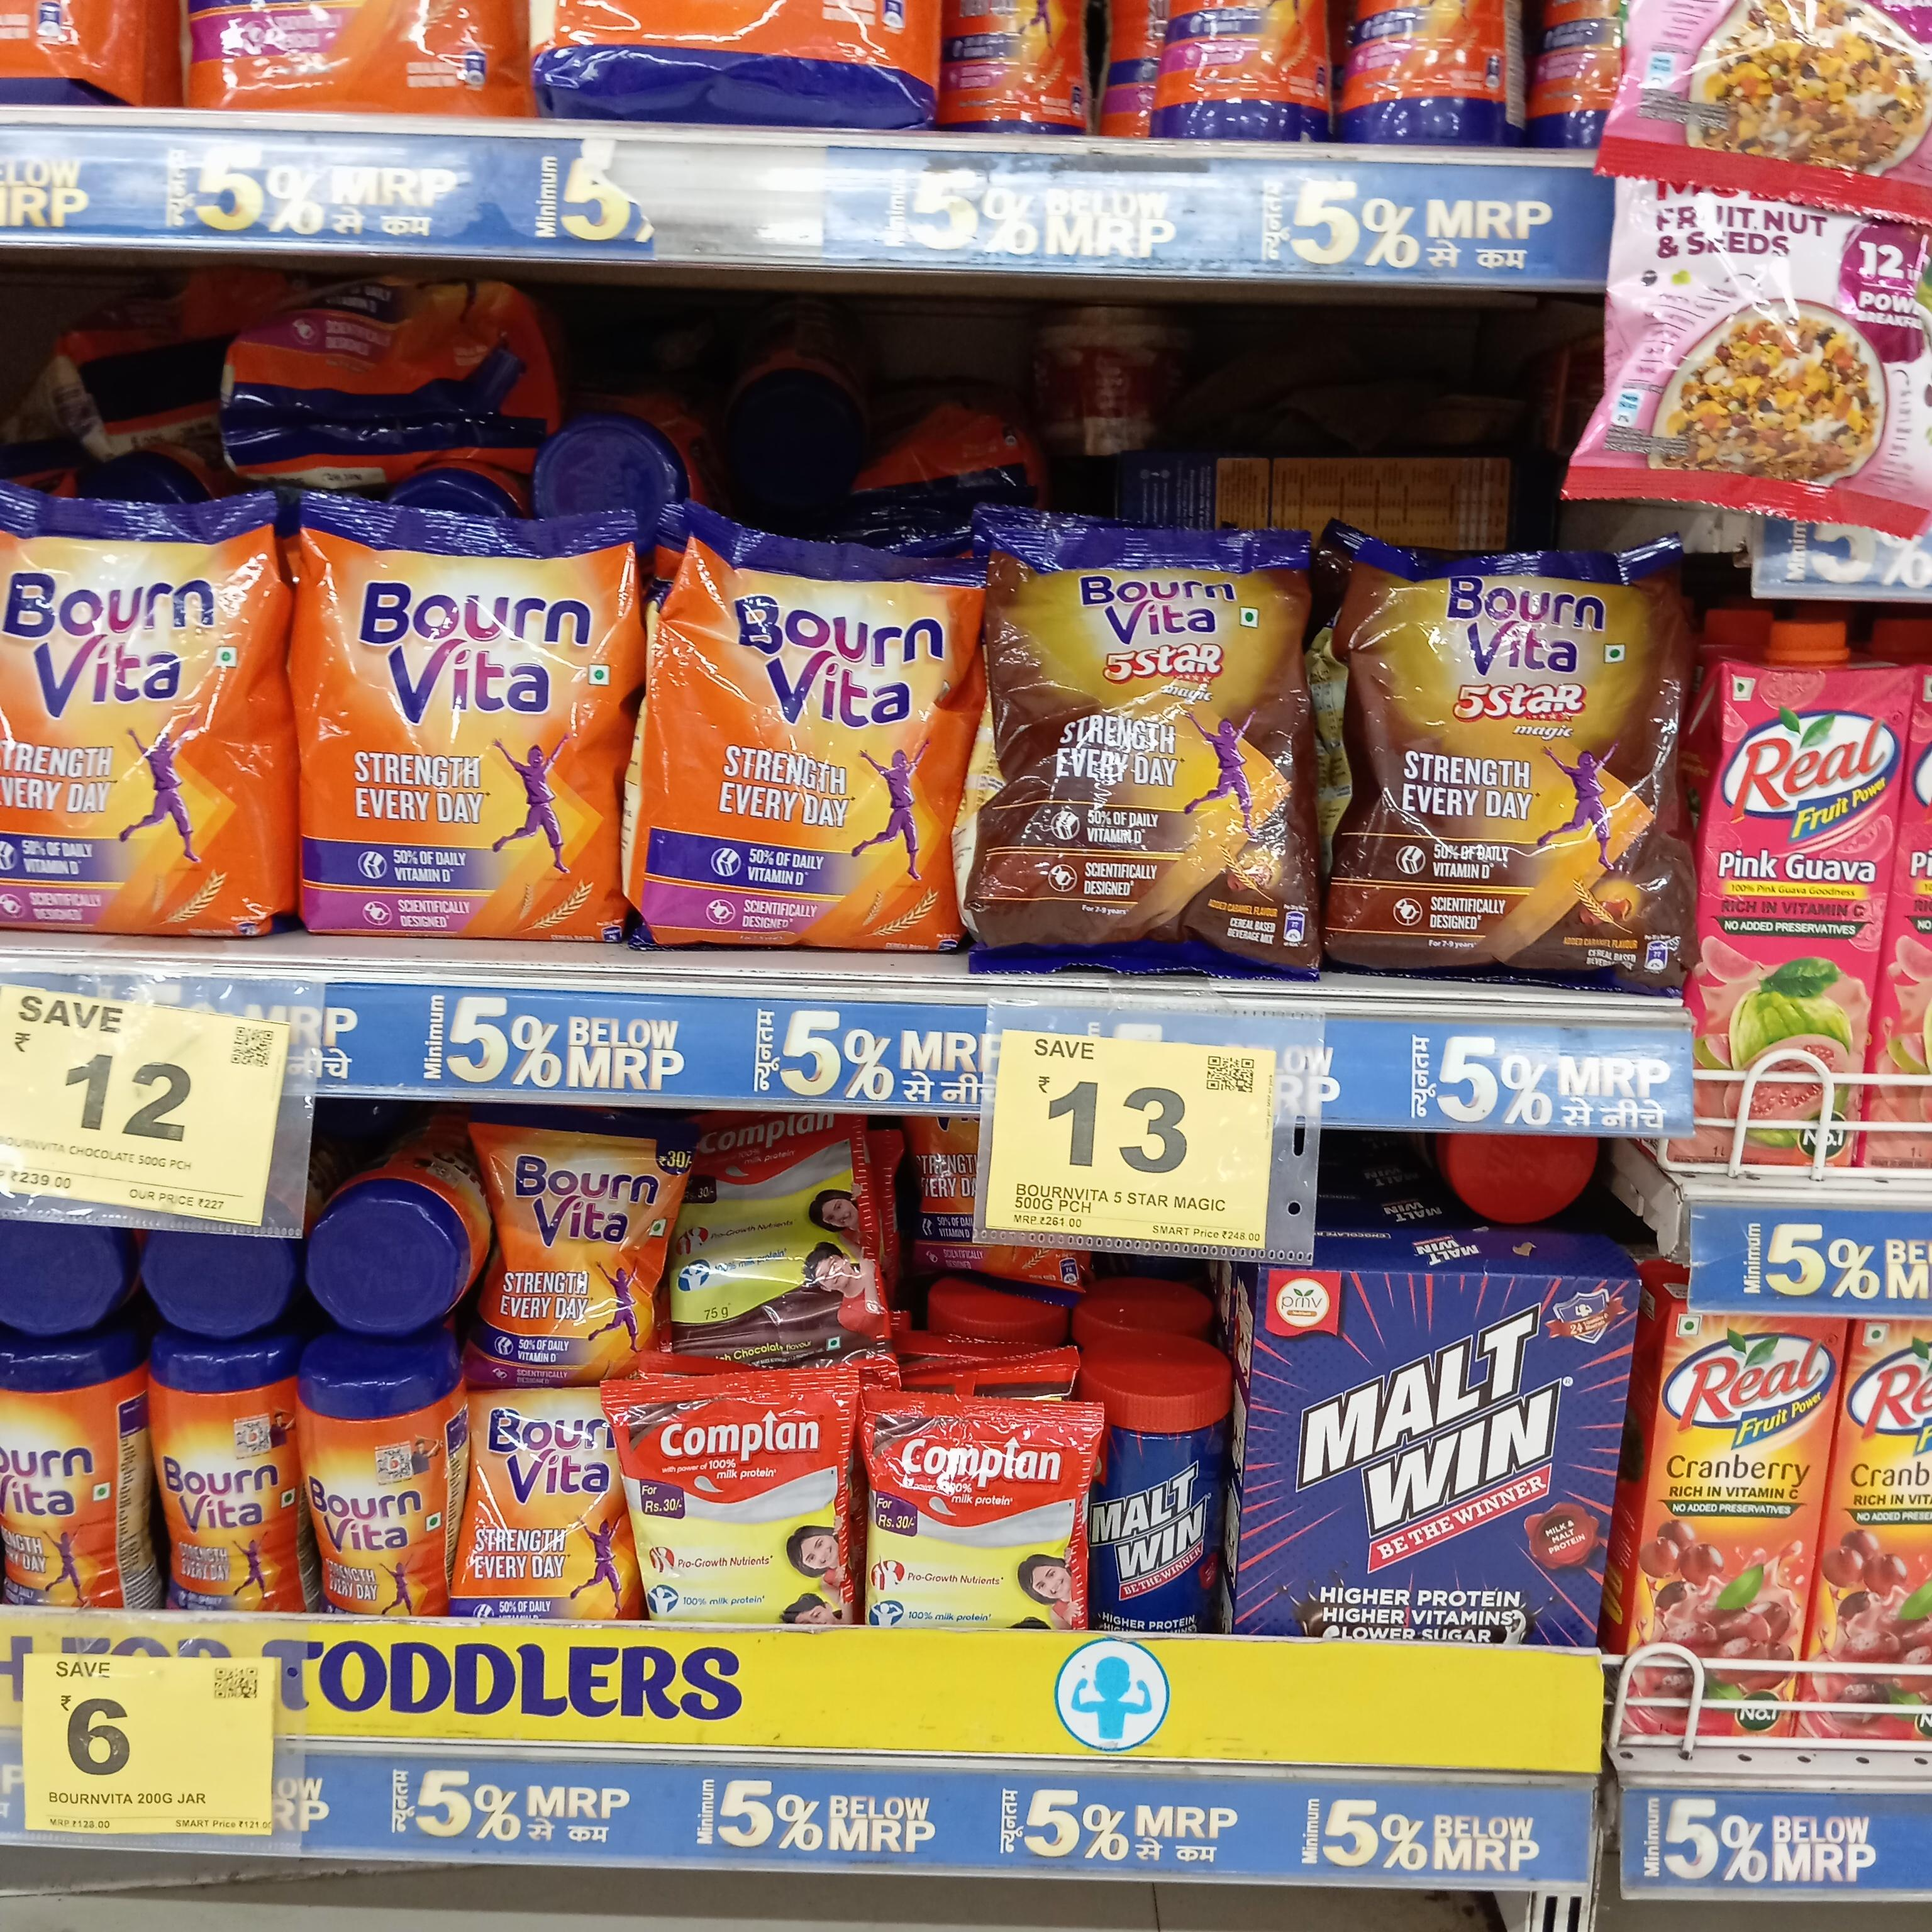BOURN_VITA_200_G_JAR: (2, 1346, 147, 1612), (156, 1336, 290, 1617), (303, 1361, 446, 1624)
BOURN_VITA_500_G_POUCH: (306, 495, 612, 947), (0, 481, 287, 939), (640, 538, 959, 948)
BOURN_VITA_75_G_POUCH: (487, 1115, 663, 1352), (458, 1378, 616, 1614)
BOURN_VITA_FIVE_STAR_MAGIC_500_G_POUCH: (1336, 543, 1684, 991), (984, 525, 1313, 985)
